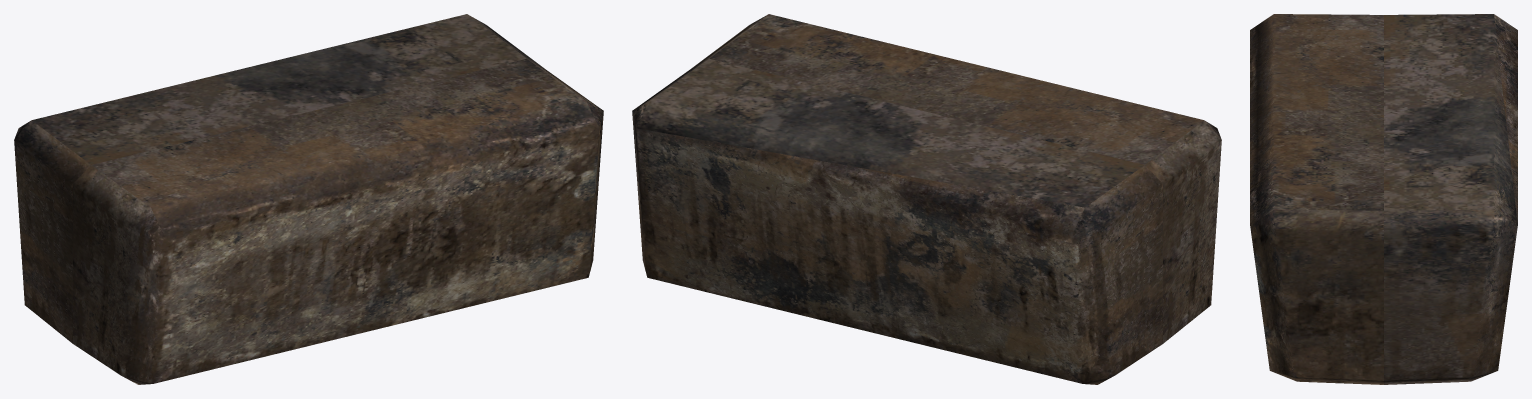
File: wall_taureg_blocks01.dae
The picture shows the model from 3 angles, left to right: view 1: azimuth 30°, elevation 25°; view 2: azimuth 150°, elevation 25°; view 3: azimuth 270°, elevation 25°; orthographic projection. The views are drawn at different scales.
Visible parts, largest first — view 1: LO1; view 2: LO1; view 3: LO1.
Boxes of the visible parts, box(x1,y1,x2,y2) form: LO1: box(14, 14, 603, 384); LO1: box(632, 14, 1221, 384); LO1: box(1250, 14, 1517, 384).
Size of the model in its own units: 1.16 by 0.4446 by 0.6157.
